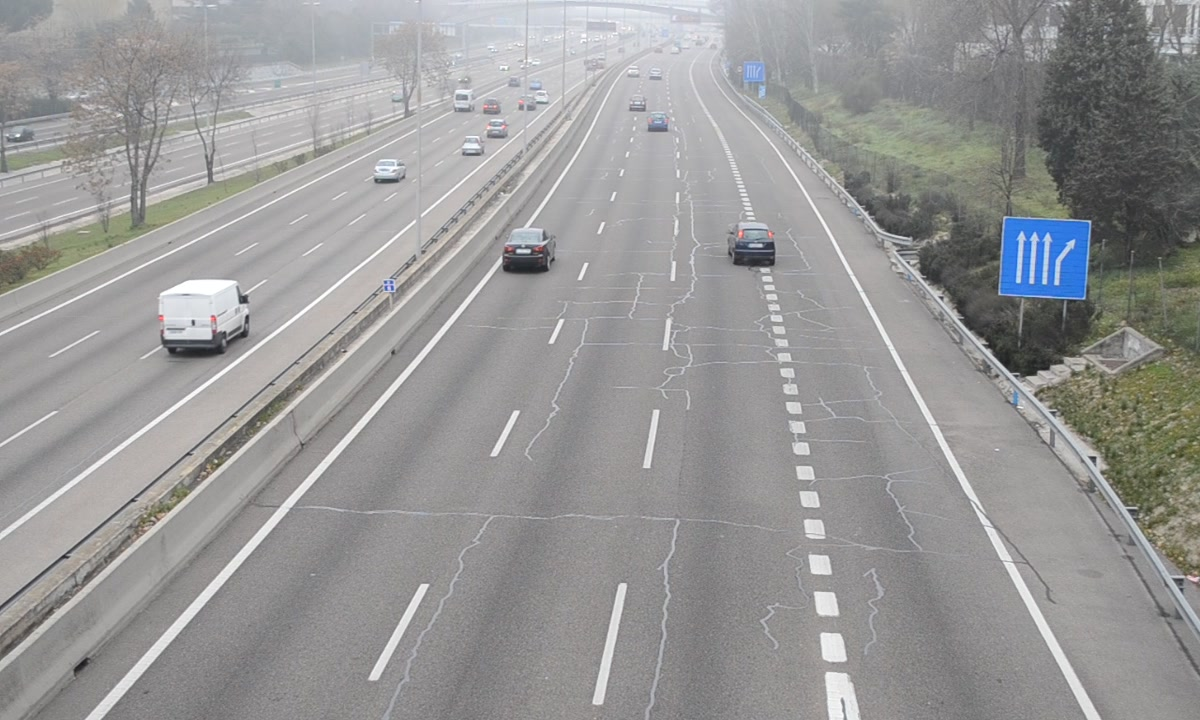car: (503, 230, 554, 271), (730, 223, 775, 264)
